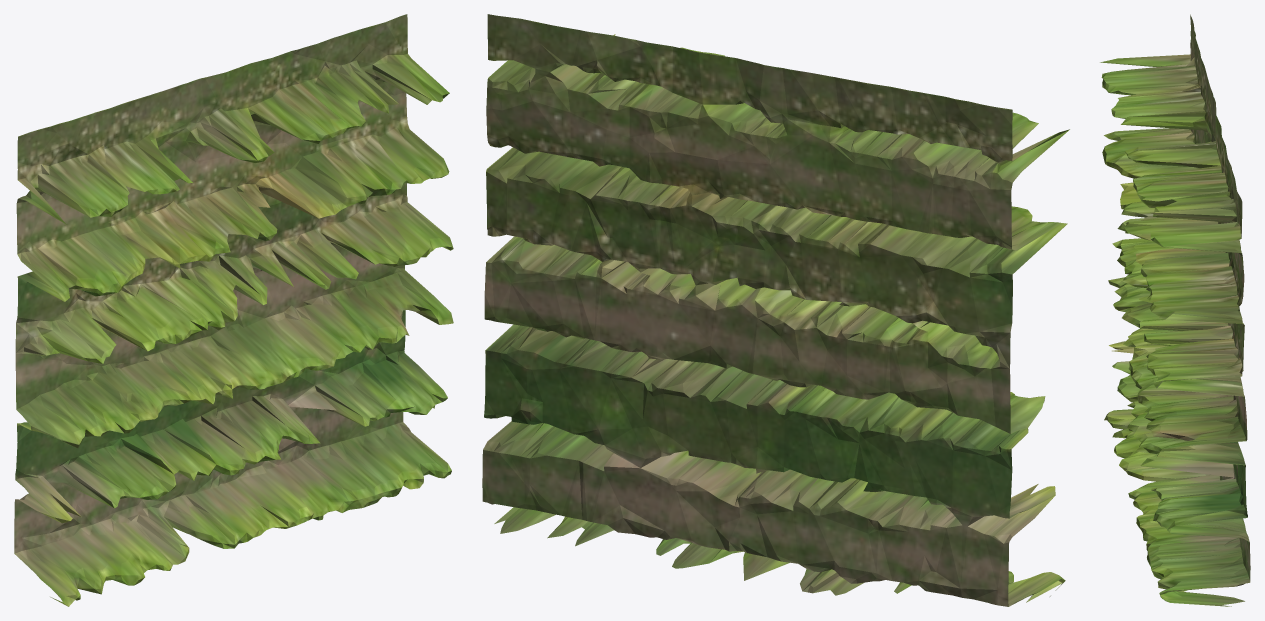
The model's file is map_100_50.obj.
3 views of the same model, side by side, from view 1: azimuth 30°, elevation 25°; view 2: azimuth 150°, elevation 25°; view 3: azimuth 270°, elevation 25° (orthographic). The views are drawn at different scales.
Visible parts, largest first — view 1: grp1; view 2: grp1; view 3: grp1.
Boxes of the visible parts, <box> form: grp1: <box>14,14,453,606</box>; grp1: <box>482,14,1069,606</box>; grp1: <box>1100,14,1250,606</box>.
Bounding box in the file's own units: 10 × 10 × 3.39.
1 material, 1 textured.
